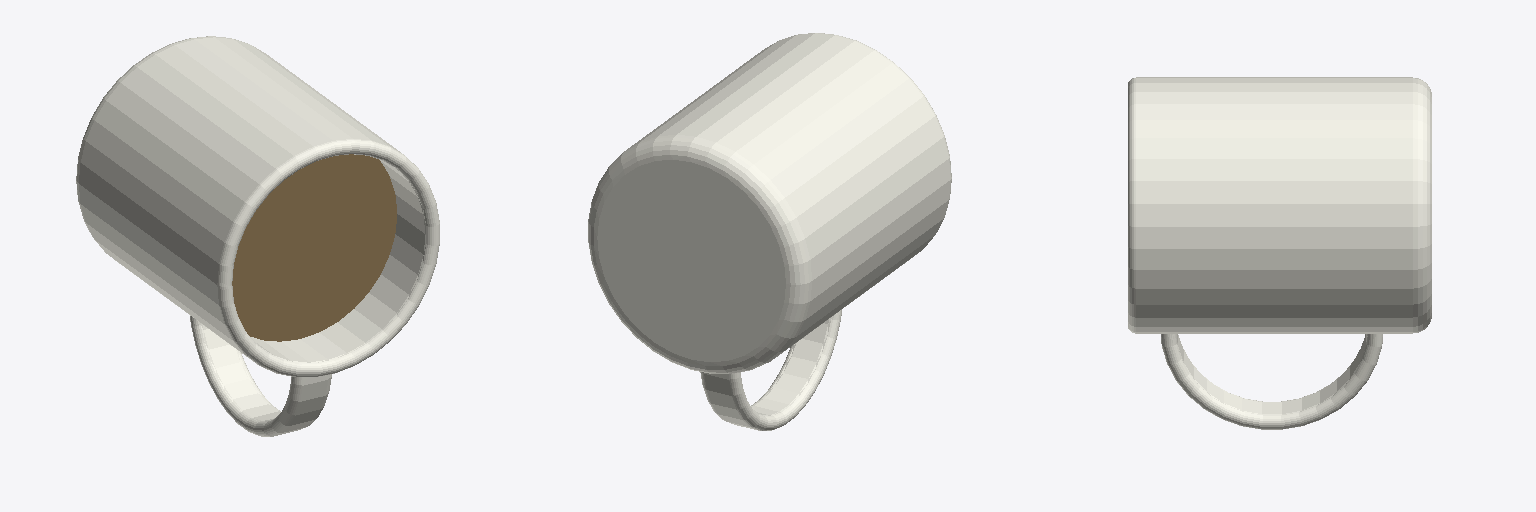
File: Cup.obj
3 renders of one model, left to right at view 1: azimuth 30°, elevation 25°; view 2: azimuth 150°, elevation 25°; view 3: azimuth 270°, elevation 25°, orthographic.
Visible parts, largest first — view 1: Cup, Coffee; view 2: Cup; view 3: Cup.
Part boxes in pixels (x1,y1,x2,y2): Cup: (76,36,439,436); Coffee: (232,154,396,341); Cup: (588,33,951,430); Cup: (1128,77,1431,429).
Size of the model in its own units: 7.98 by 11.48 by 9.5.